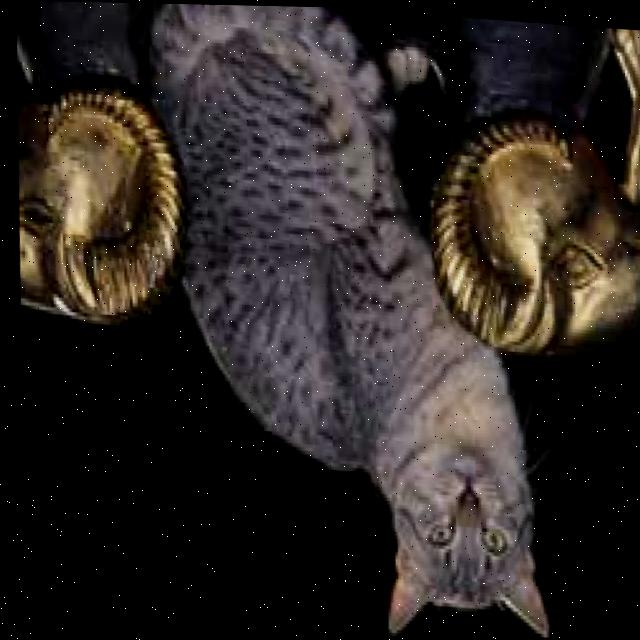Egyptian Mau: (80, 1, 581, 640)
